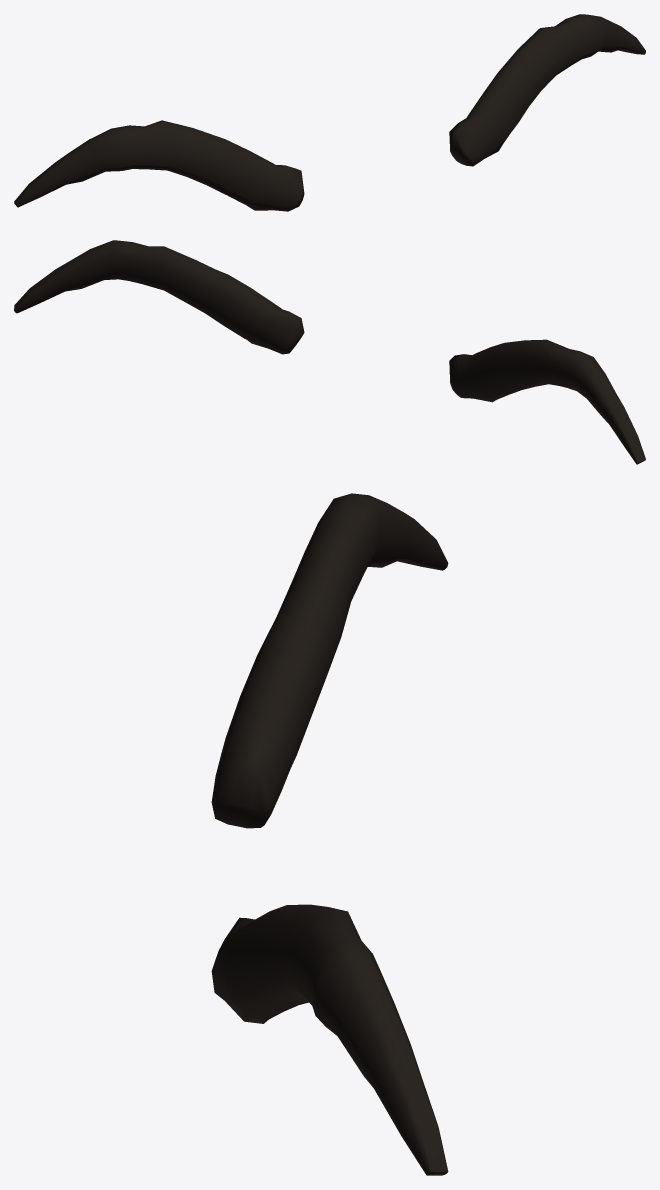
Rendered from Eyebrows_18_01.fbx.
3 renders of one model, top to bottom at view 1: azimuth 30°, elevation 25°; view 2: azimuth 150°, elevation 25°; view 3: azimuth 270°, elevation 25°, orthographic. The views are drawn at different scales.
Visible parts, largest first — view 1: Eyebrows_18_01; view 2: Eyebrows_18_01; view 3: Eyebrows_18_01.
Part boxes in pixels (x1,y1,x2,y2): Eyebrows_18_01: [14, 14, 645, 211]; Eyebrows_18_01: [14, 240, 645, 464]; Eyebrows_18_01: [211, 493, 448, 1175].
Bounding box in the file's own units: 18.22 × 2.68 × 2.96.
